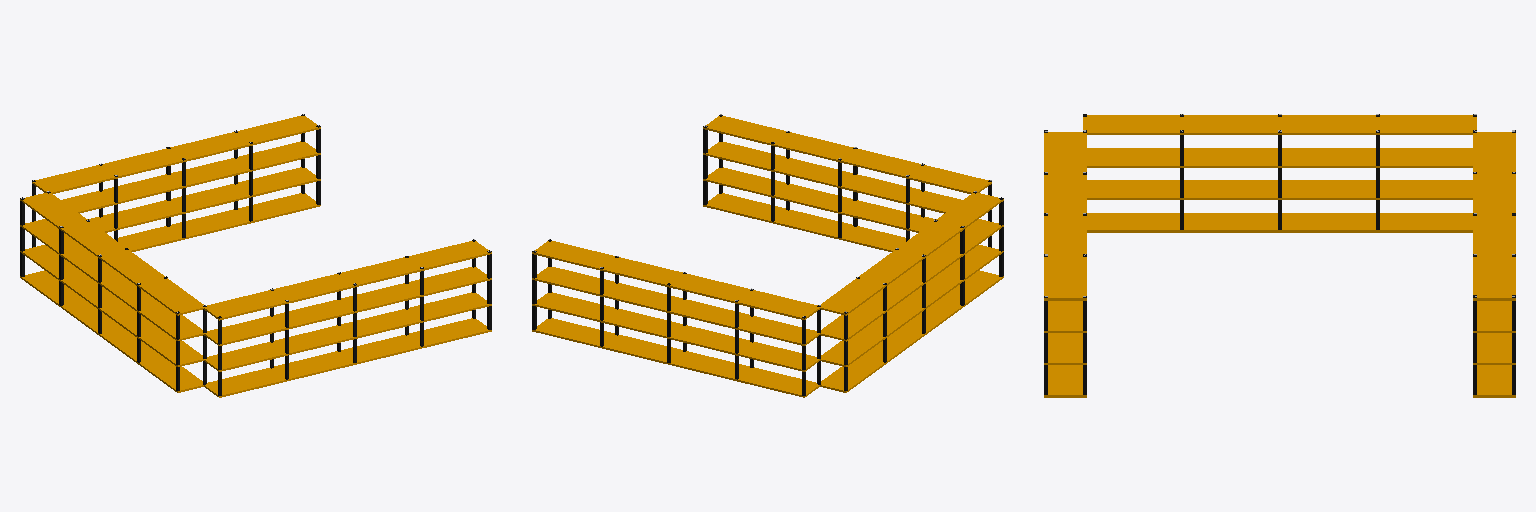
robot.urdf — shelf_model:
<robot name="shelf_model">
  <link name="shelf">
    <inertial>
      <mass value="1.0" />
      <inertia  ixx="1.0" ixy="0.0"  ixz="0.0"  iyy="100.0"  iyz="0.0"  izz="1.0" />
    </inertial>
    <visual>
      <geometry>
        <mesh filename="package://models_pkg/models/shelf1/shelf.dae" scale="1.5 1.5 1"/>
      </geometry>	
    </visual>
    <collision>
      <geometry>
        <mesh filename="package://models_pkg/models/shelf1/shelf.dae" scale="1.5 1.5 1"/>
      </geometry>
    </collision>
  </link>
  
</robot>

--- Render facts (derived) ---
The picture shows the robot from 3 angles, left to right: view 1: azimuth 30°, elevation 25°; view 2: azimuth 150°, elevation 25°; view 3: azimuth 270°, elevation 25°; orthographic projection.
Robot: shelf_model — 1 links, 0 joints (none); root link shelf; default pose: every joint at zero.
Visible links, largest first — view 1: shelf; view 2: shelf; view 3: shelf.
Link boxes in pixels (left/top/right/bottom): shelf: left=20, top=114, right=491, bottom=397; shelf: left=532, top=114, right=1003, bottom=397; shelf: left=1044, top=114, right=1515, bottom=397.
Bounding box of the posed robot: 4.31 × 4.69 × 1.11 m (x, y, z).
1 mesh visuals loaded from 1 distinct referenced files (1 Collada DAE).